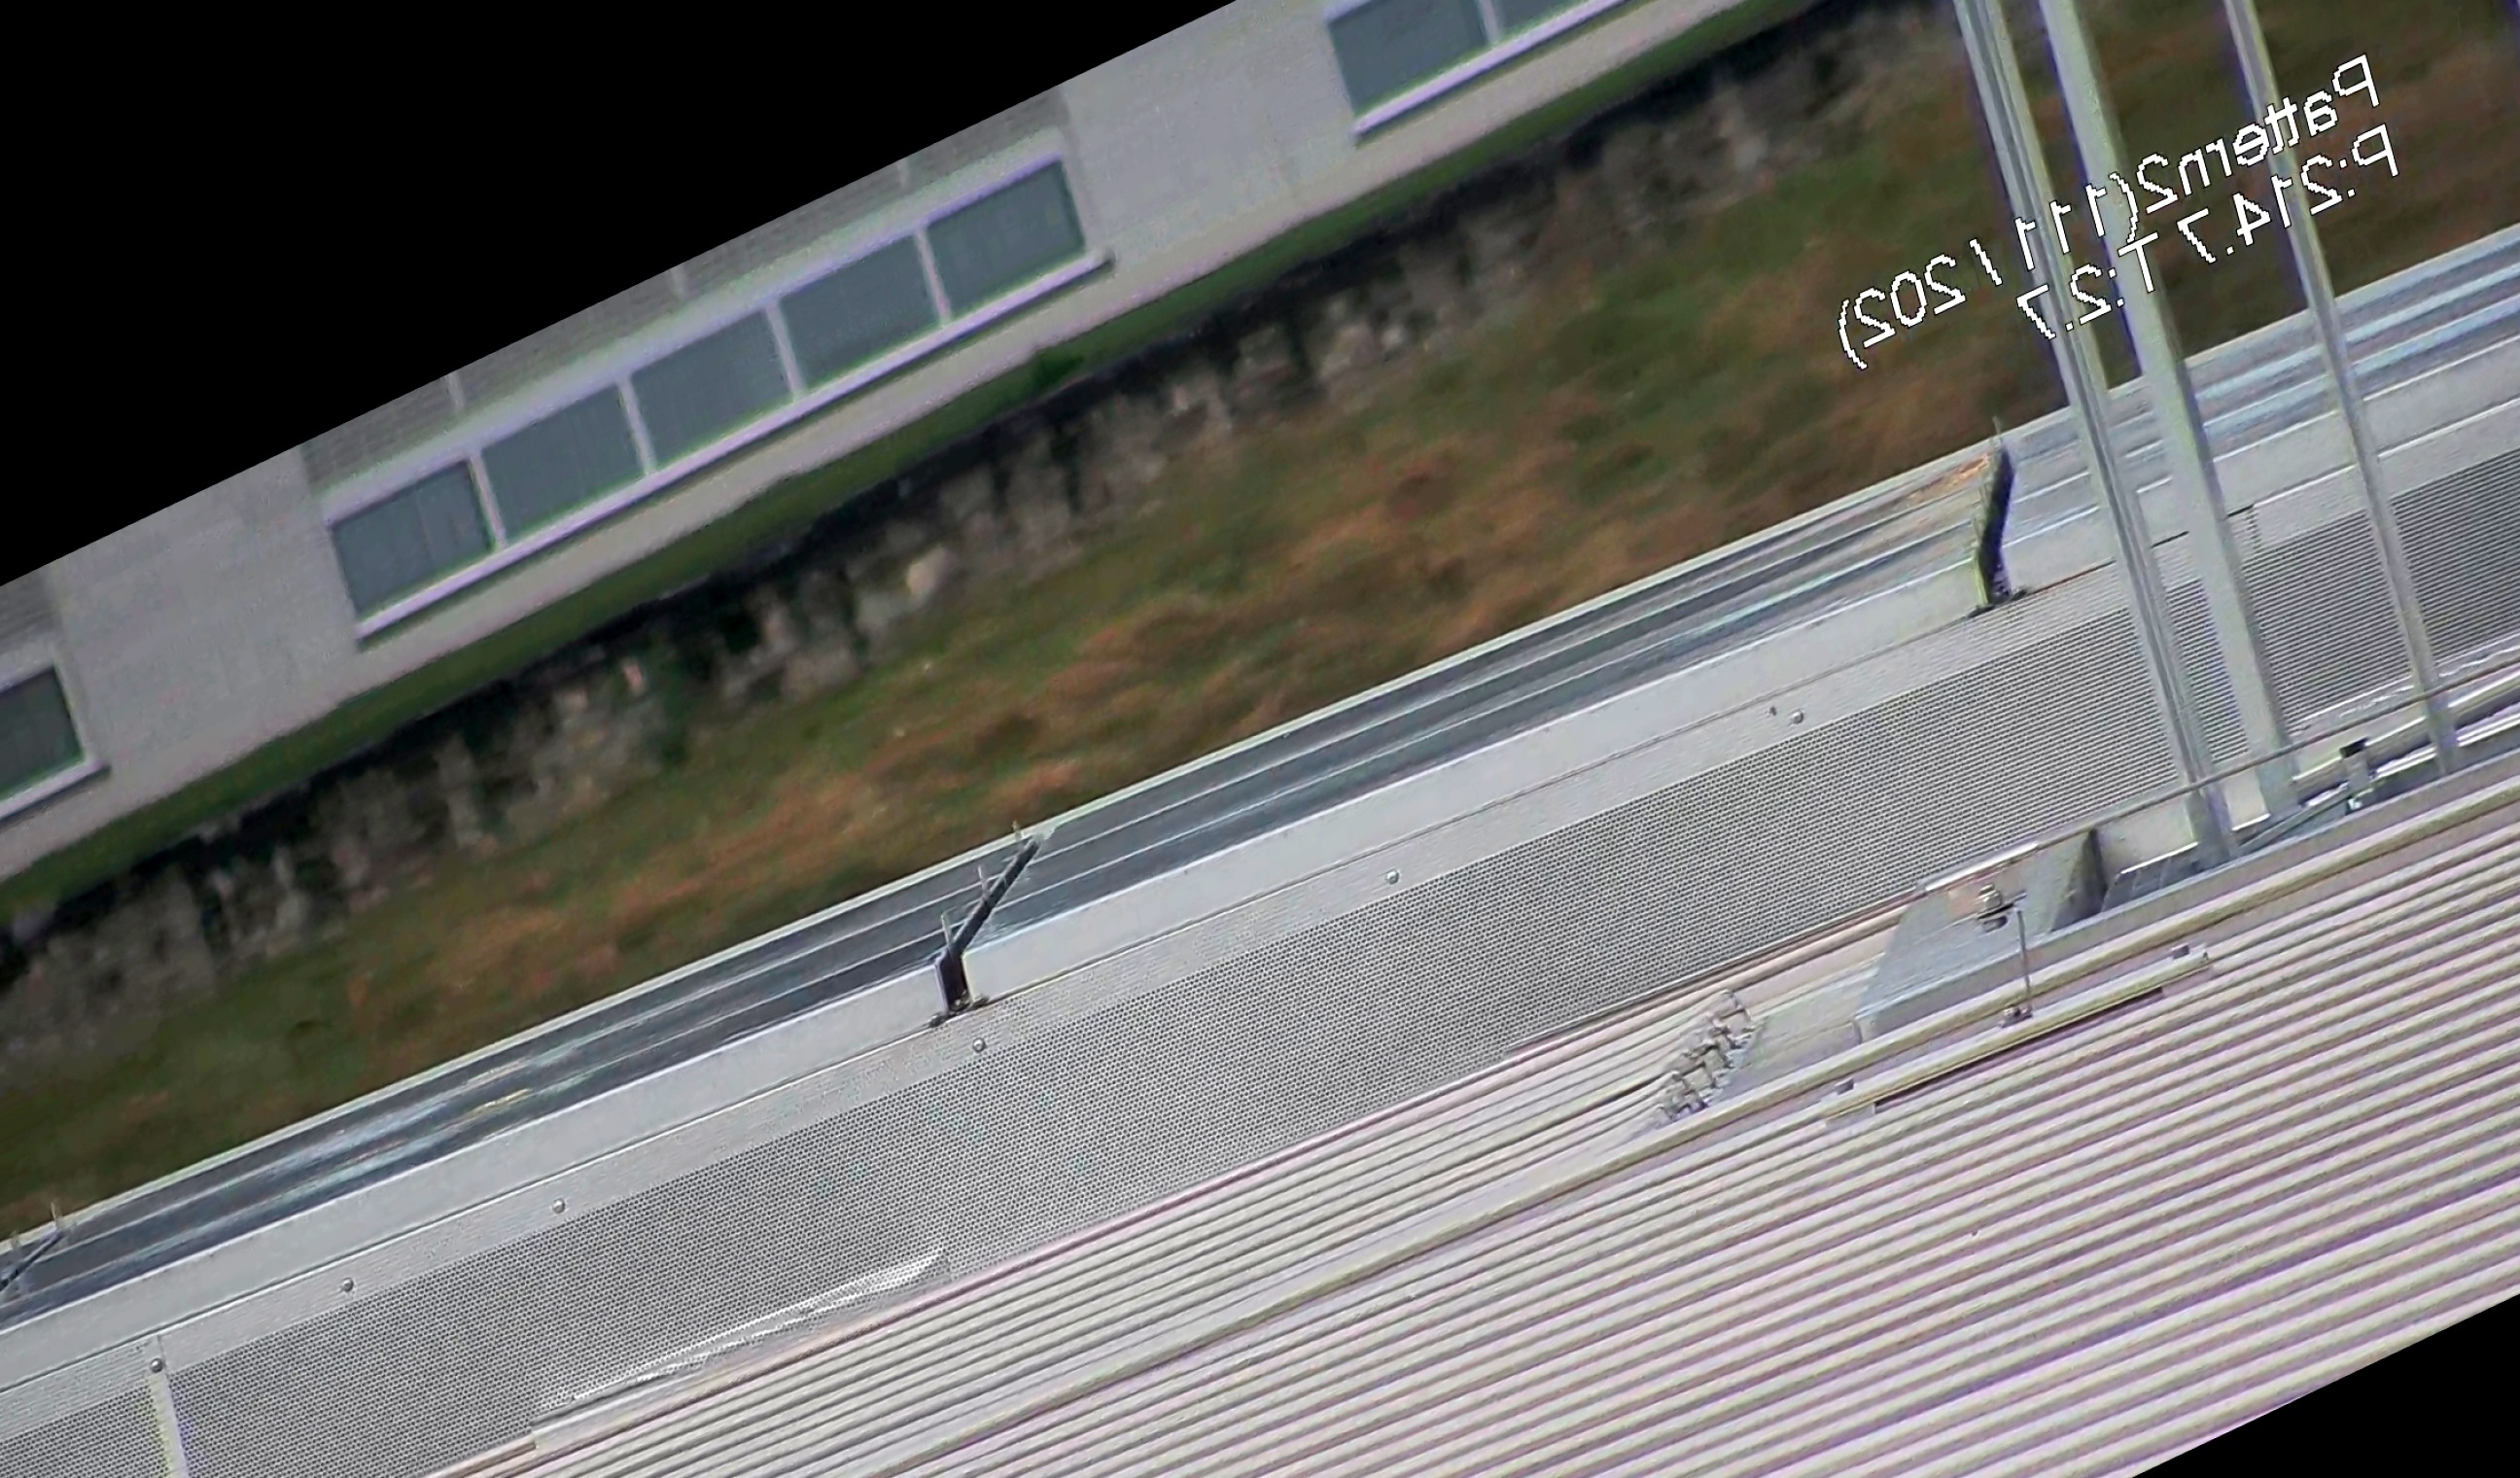Other: (1926, 413, 2065, 621)
